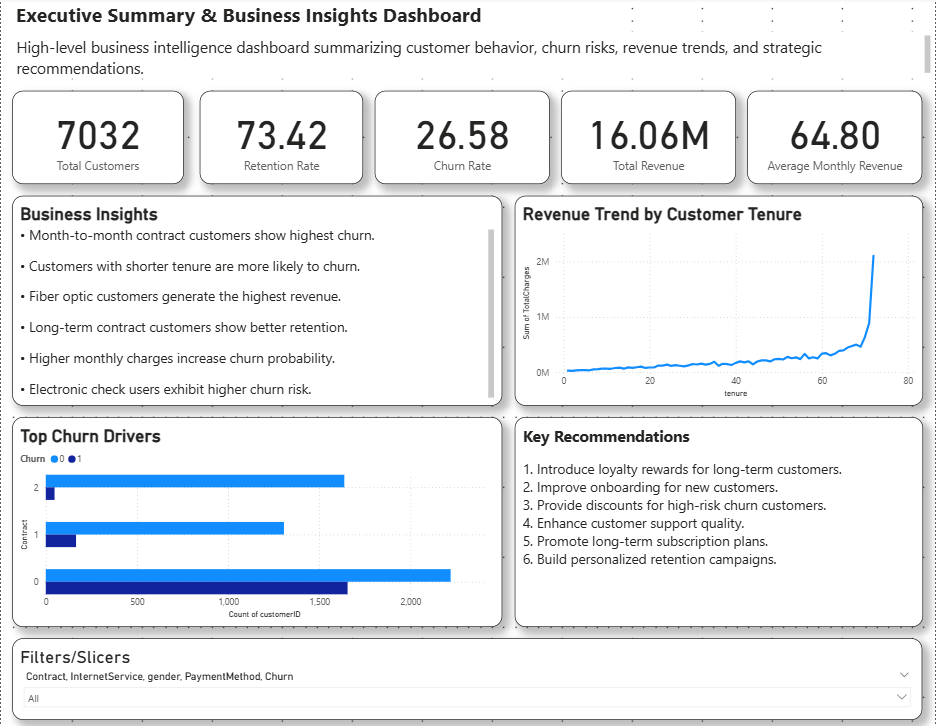

Layout of this report page (visuals, bound fields, positions):
{"tool":"powerbi","page":{"name":"Executive Summary & Insights","canvas":[1280,1000],"ordinal":4},"visuals":[{"type":"textbox","box":[16,0,832,48],"z":0},{"type":"textbox","box":[16,48,1264,64],"z":1},{"type":"card","fields":{"Values":["clean_events.Total Customers"]},"box":[16,128,235,128],"z":2},{"type":"card","fields":{"Values":["clean_events.Retention Rate"]},"box":[272,128,224,128],"z":3},{"type":"card","fields":{"Values":["clean_events.Churn Rate"]},"box":[512,128,240,128],"z":4},{"type":"card","fields":{"Values":["clean_events.Total Revenue"]},"box":[768,128,240,128],"z":5},{"type":"card","fields":{"Values":["clean_events.Average Monthly Revenue"]},"box":[1024,128,240,128],"z":6},{"type":"textbox","box":[16,332,235,150],"z":7},{"type":"textbox","title":"Business Insights","box":[16,272,672,288],"z":8},{"type":"lineChart","title":"Revenue Trend by Customer Tenure","fields":{"Category":["clean_events.tenure"],"Y":["Sum(clean_events.TotalCharges)"]},"box":[704,272,560,288],"z":9},{"type":"clusteredBarChart","title":"Top Churn Drivers","fields":{"Category":["clean_events.Contract"],"Y":["CountNonNull(clean_events.customerID)"],"Series":["clean_events.Churn"]},"box":[16,576,672,288],"z":10},{"type":"textbox","box":[704,576,560,288],"z":11},{"type":"slicer","title":"Filters/Slicers","fields":{"Values":["clean_events.Contract","clean_events.InternetService","clean_events.gender","clean_events.PaymentMethod","clean_events.Churn"]},"box":[16,880,1248,112],"z":12}]}

Visuals, with their boxes in screenshot pixels (x1, y1, x2, y2), scaled from the page's 1280x1000 canvas onto the 936x726 screenshot:
textbox: bbox=(12, 0, 620, 35)
textbox: bbox=(12, 35, 935, 81)
card - clean_events.Total Customers: bbox=(12, 93, 184, 186)
card - clean_events.Retention Rate: bbox=(199, 93, 363, 186)
card - clean_events.Churn Rate: bbox=(374, 93, 550, 186)
card - clean_events.Total Revenue: bbox=(562, 93, 737, 186)
card - clean_events.Average Monthly Revenue: bbox=(749, 93, 924, 186)
textbox: bbox=(12, 241, 184, 350)
"Business Insights" textbox: bbox=(12, 197, 503, 407)
"Revenue Trend by Customer Tenure" lineChart: bbox=(515, 197, 924, 407)
"Top Churn Drivers" clusteredBarChart: bbox=(12, 418, 503, 627)
textbox: bbox=(515, 418, 924, 627)
"Filters/Slicers" slicer: bbox=(12, 639, 924, 720)
